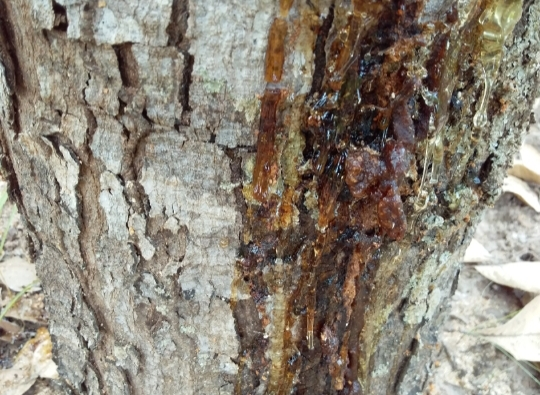Gommose: (260, 4, 417, 394)
